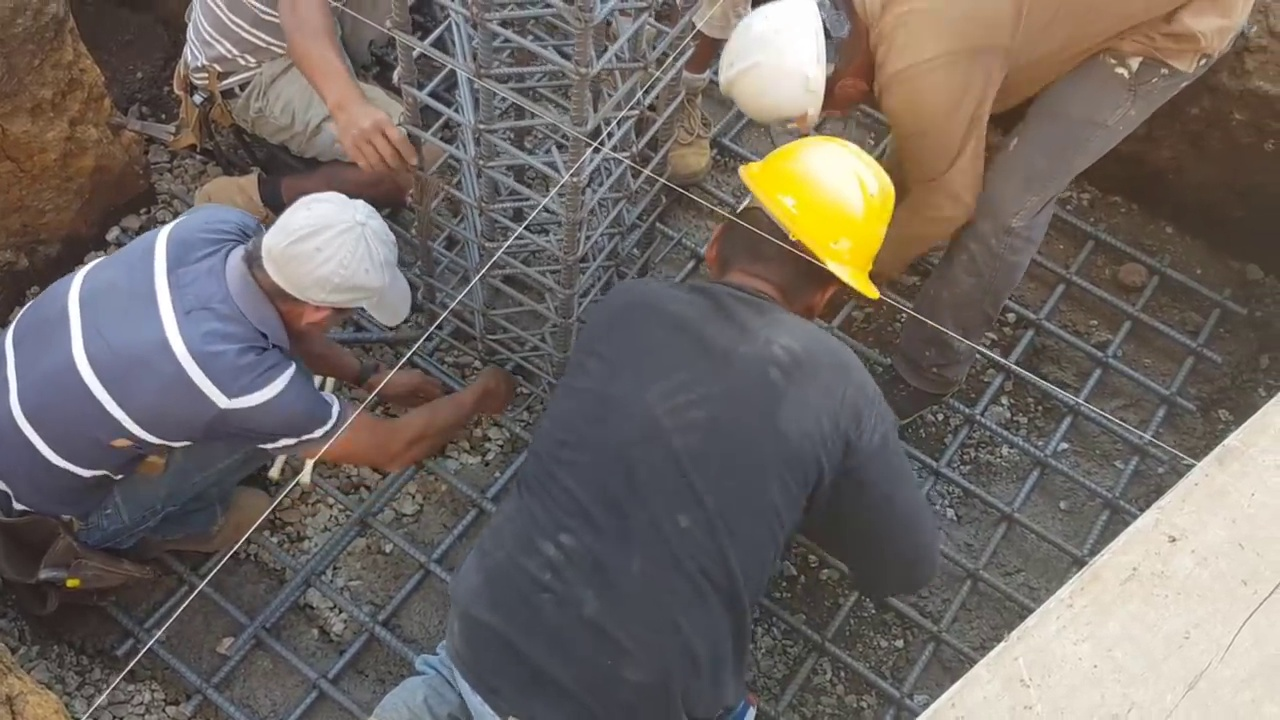helmet: (734, 132, 900, 302), (714, 3, 831, 119)
helmet-off: (250, 190, 415, 348)
helmet-on: (700, 135, 901, 316), (711, 3, 880, 124)
person: (385, 128, 939, 720), (712, 2, 1272, 430), (8, 172, 514, 584), (163, 1, 451, 228)
